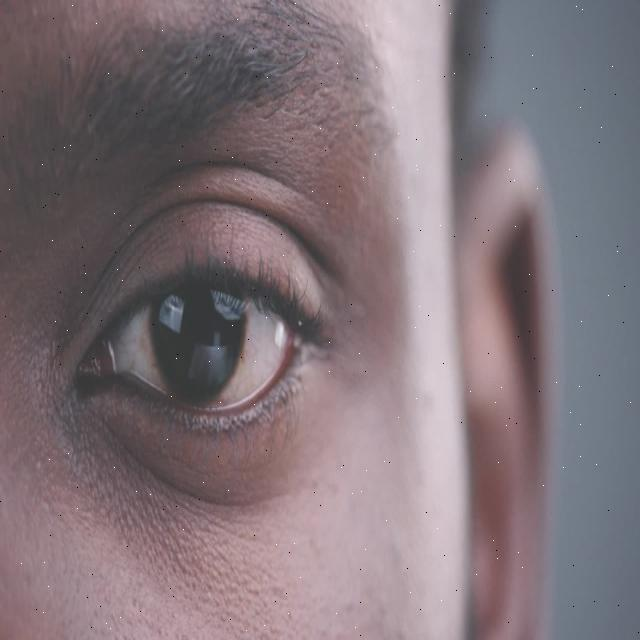Conjunctivitis: (56, 188, 344, 540)
